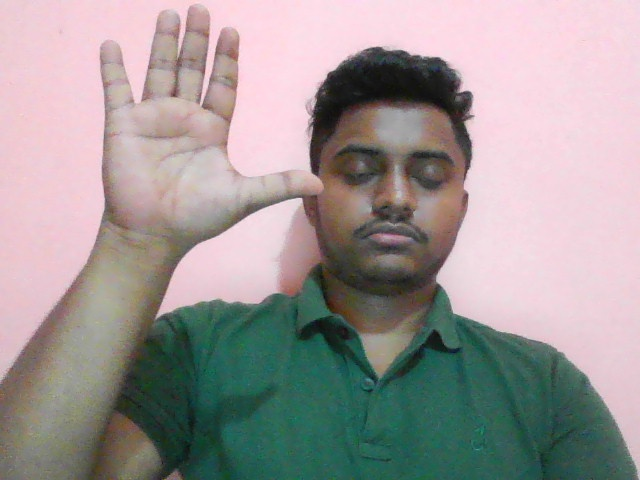Hello: (94, 1, 328, 269)
